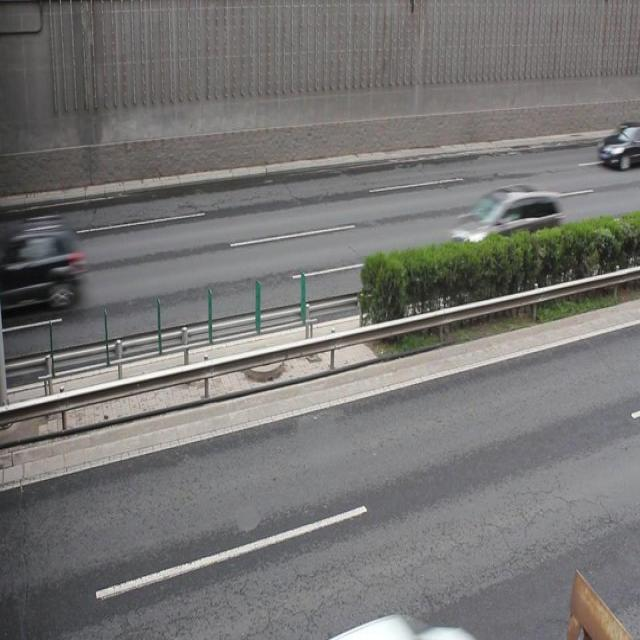car: (452, 184, 560, 266), (12, 216, 82, 312)
